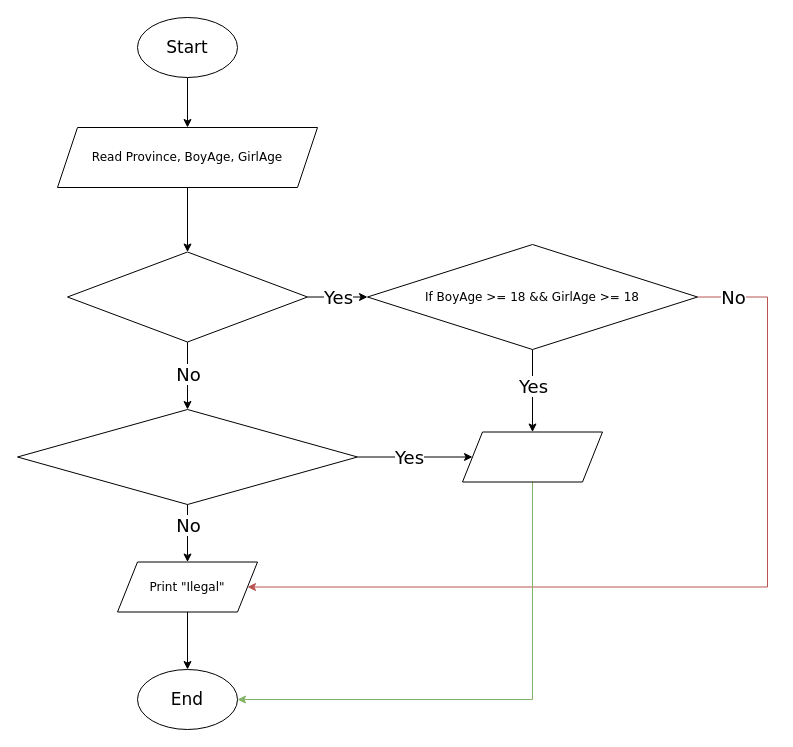
Some shapes in this 793 by 747 pixel diagram are drawn without their labels. The shapes that lost their labels are listed below. From the top down, each one's centre as x and y in pixels, then its label:
pixel 187 296: If Province == "Sindh"
pixel 187 456: If BoyAge >= 18 && GirlAge >= 16
pixel 532 456: Print "Legal"
